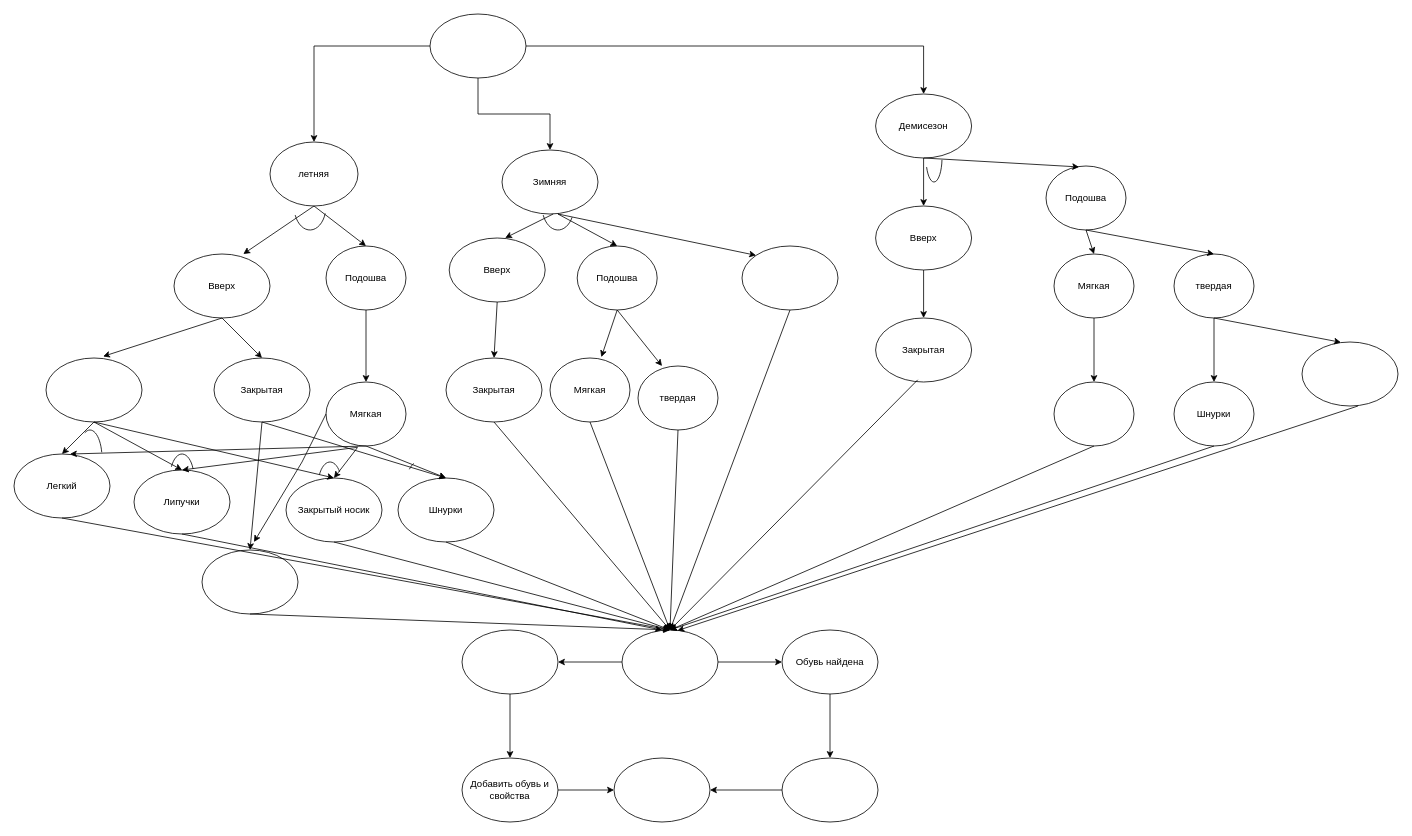
The diagram is 1412 pixels wide and 836 high, and some of its shapes have lost their labels. The shapes that lost their labels are listed below. From the top down, each one's centre as x and y in pixels, then its label:
At (x=477, y=45): "Обувь".
At (x=789, y=277): "Теплая обивка".
At (x=93, y=389): "Открытая".
At (x=1349, y=373): "Высокое голенище".
At (x=1093, y=413): "Тупой носик".
At (x=249, y=581): "Бегать".
At (x=509, y=661): "Обувь не найдена".
At (x=669, y=661): "Поиск нужной обуви по свойствам".
At (x=661, y=789): "Exit".
At (x=829, y=789): "По запросу показать свойства".
